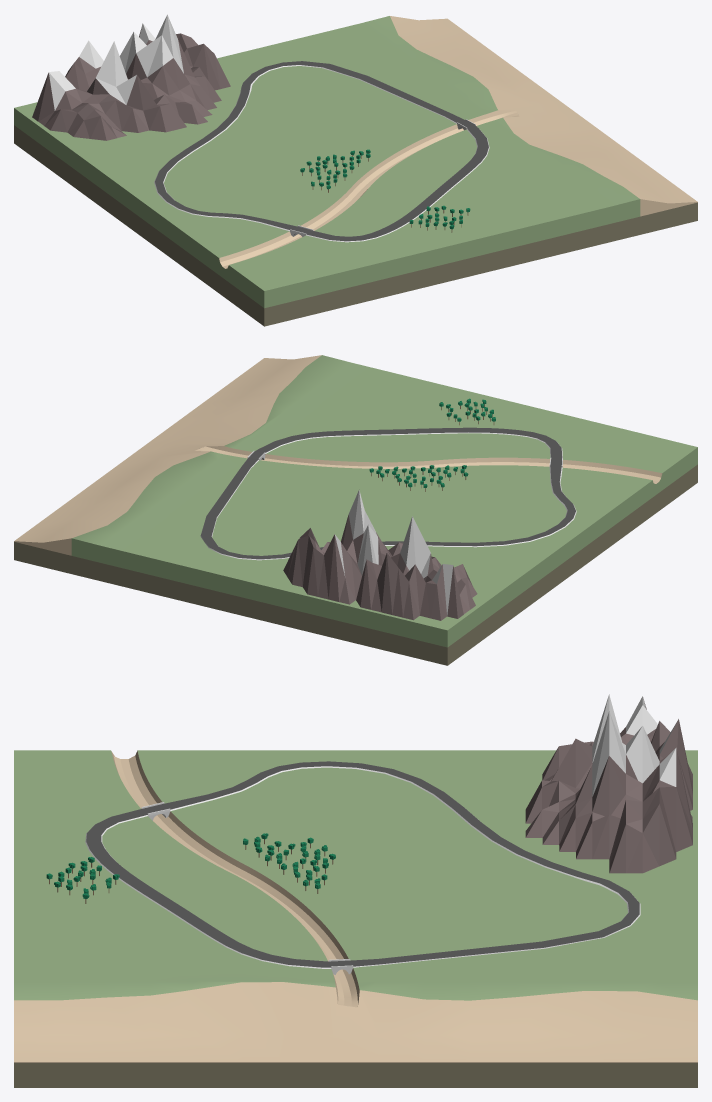
File: Map_GoodRoad_V2.fbx
The picture shows the model from 3 angles, top to bottom: view 1: azimuth 30°, elevation 25°; view 2: azimuth 150°, elevation 25°; view 3: azimuth 270°, elevation 25°; orthographic projection. The views are drawn at different scales.
Parts seen in each view (by area): view 1: Terrain, GoodRoad_2, GoodRoad_1; view 2: Terrain, GoodRoad_2, GoodRoad_1; view 3: Terrain, GoodRoad_2, GoodRoad_1.
Boxes of the visible parts, x1,y1,x2,y2 form: Terrain: [14, 14, 697, 326]; GoodRoad_2: [154, 61, 465, 231]; GoodRoad_1: [306, 125, 489, 242]; Terrain: [14, 355, 697, 665]; GoodRoad_2: [200, 458, 576, 560]; GoodRoad_1: [255, 427, 562, 459]; Terrain: [14, 694, 697, 1087]; GoodRoad_2: [164, 761, 640, 967]; GoodRoad_1: [85, 809, 331, 968].
Bounding box in the file's own units: 23.74 × 6.45 × 23.74.
